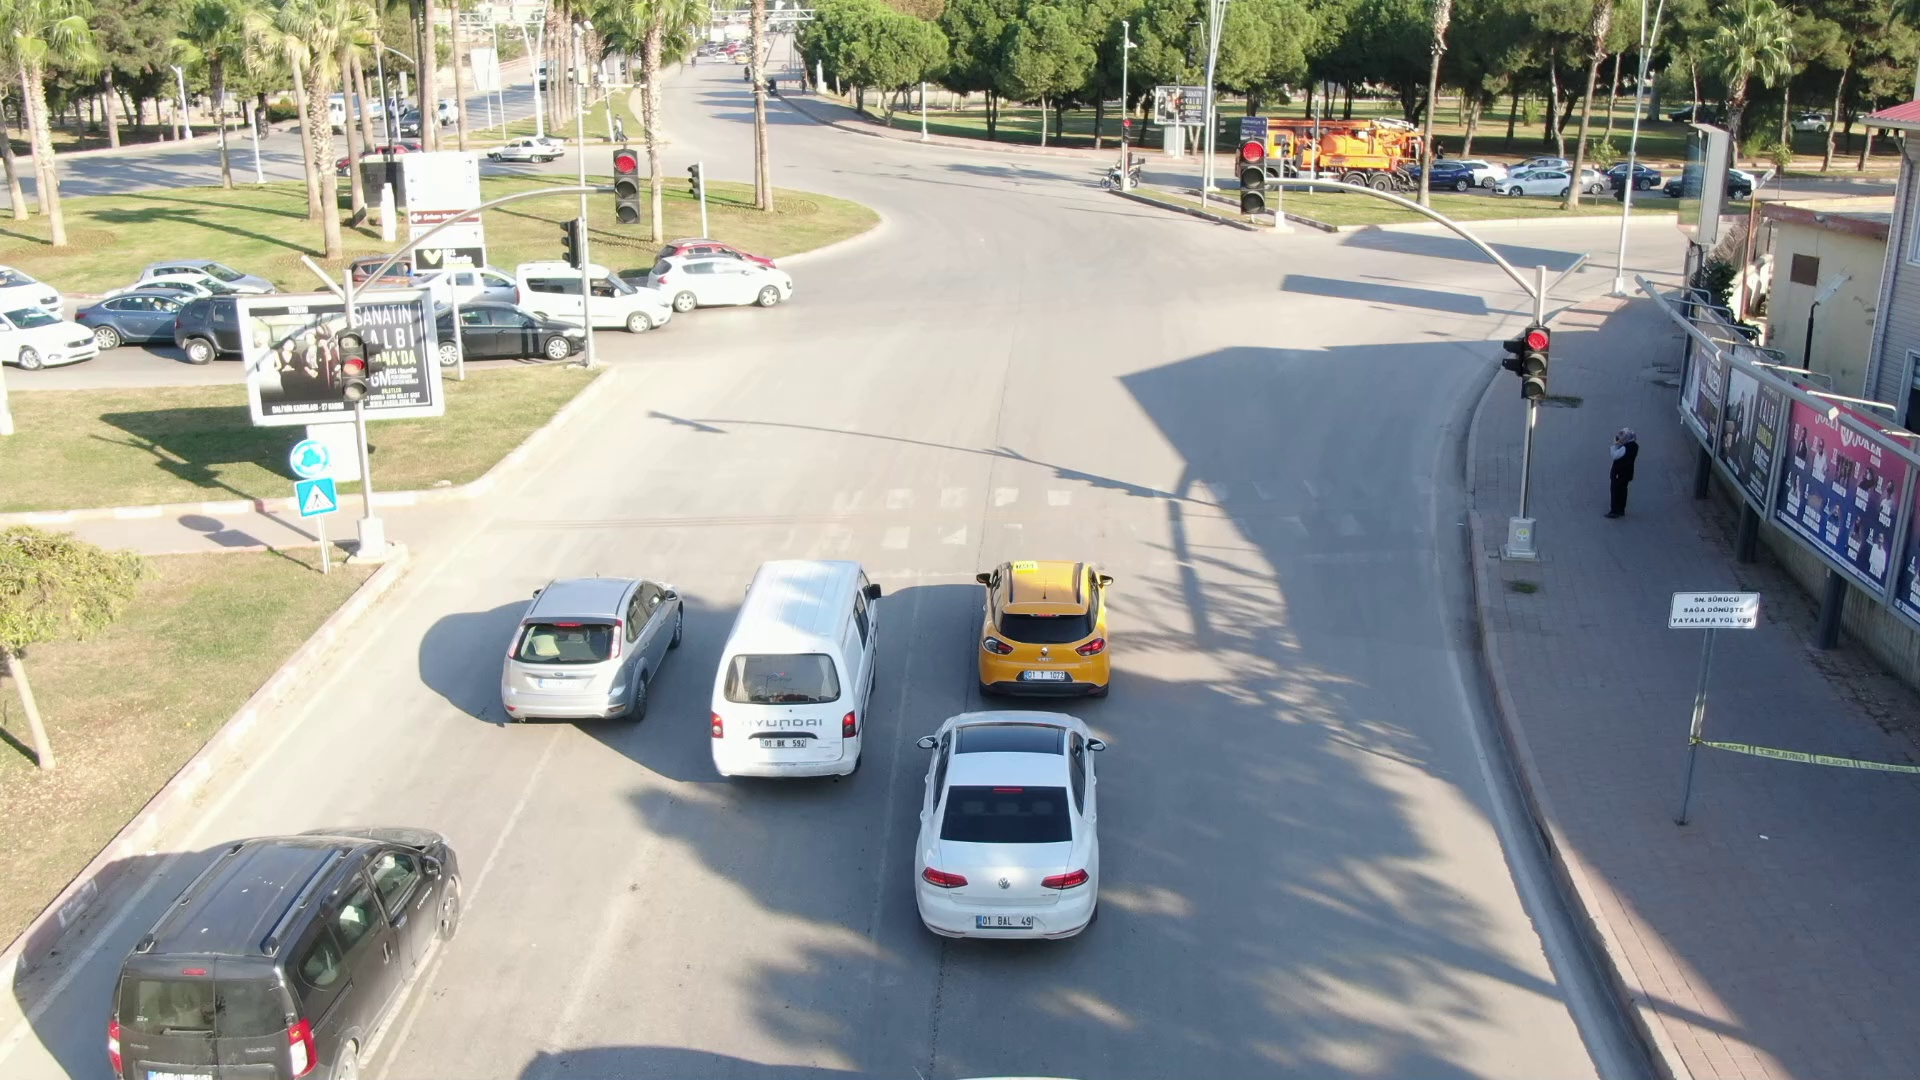car: (95, 814, 474, 1080), (908, 699, 1114, 961), (701, 550, 889, 790), (472, 568, 694, 737), (963, 561, 1133, 704), (512, 255, 670, 327), (653, 245, 806, 308)
person: (1596, 425, 1651, 529)
